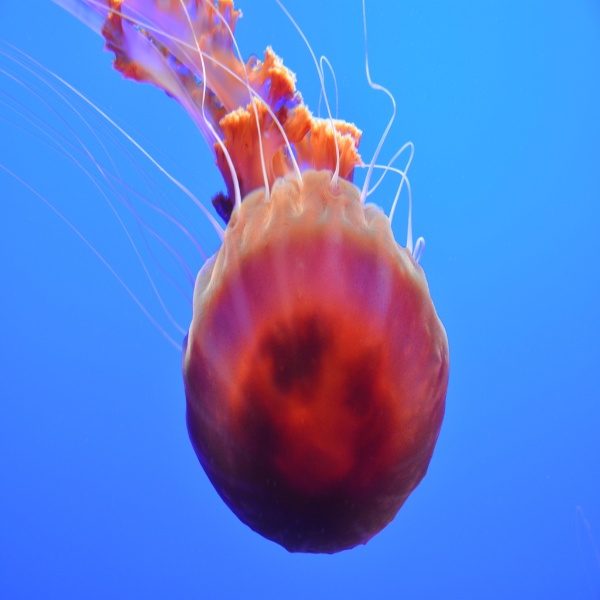Jellyfish: (0, 0, 451, 554)
